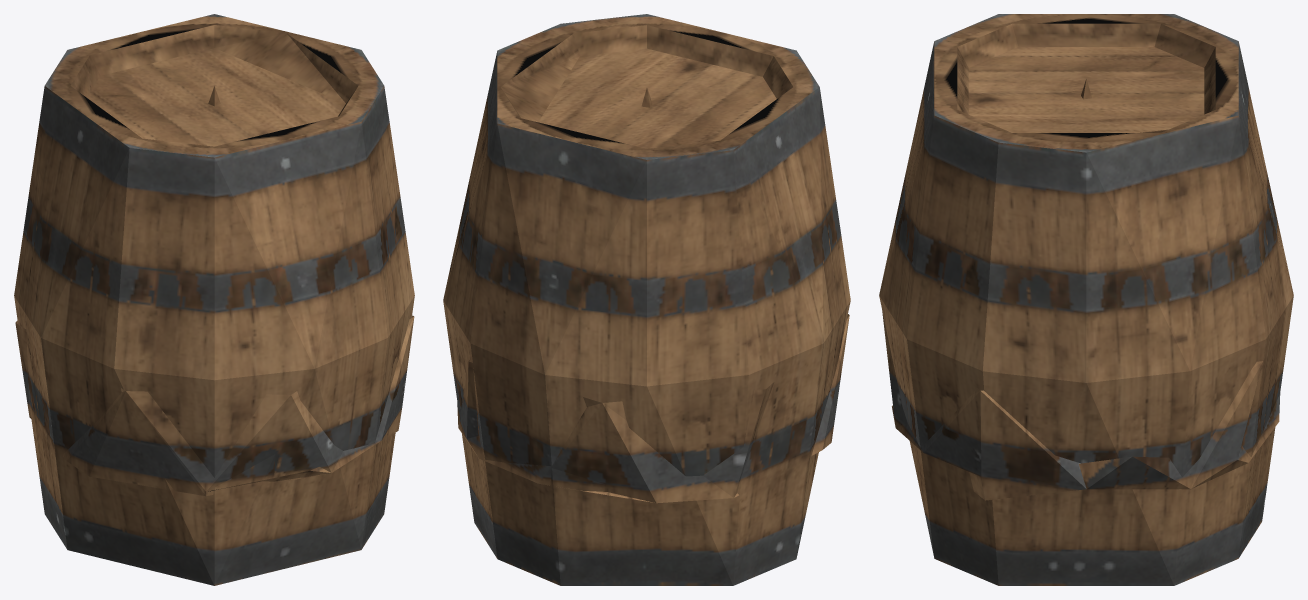
Rendered from barrel_lod1.glb.
The picture shows the model from 3 angles, left to right: view 1: azimuth 30°, elevation 25°; view 2: azimuth 150°, elevation 25°; view 3: azimuth 270°, elevation 25°; orthographic projection. The views are drawn at different scales.
Parts seen in each view (by area): view 1: geometry_0; view 2: geometry_0; view 3: geometry_0.
Boxes of the visible parts, box(x1,y1,x2,y2) form: geometry_0: box(14, 14, 414, 585); geometry_0: box(443, 14, 850, 585); geometry_0: box(879, 14, 1293, 585).
Bounding box in the file's own units: 0.9025 × 1.06 × 0.9025.
Materials: 1 (1 with a texture image).
